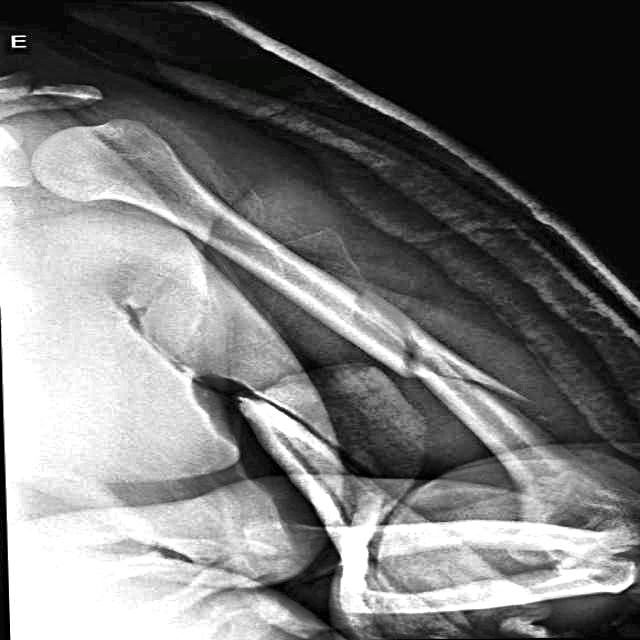Spiral: (310, 263, 558, 411)
